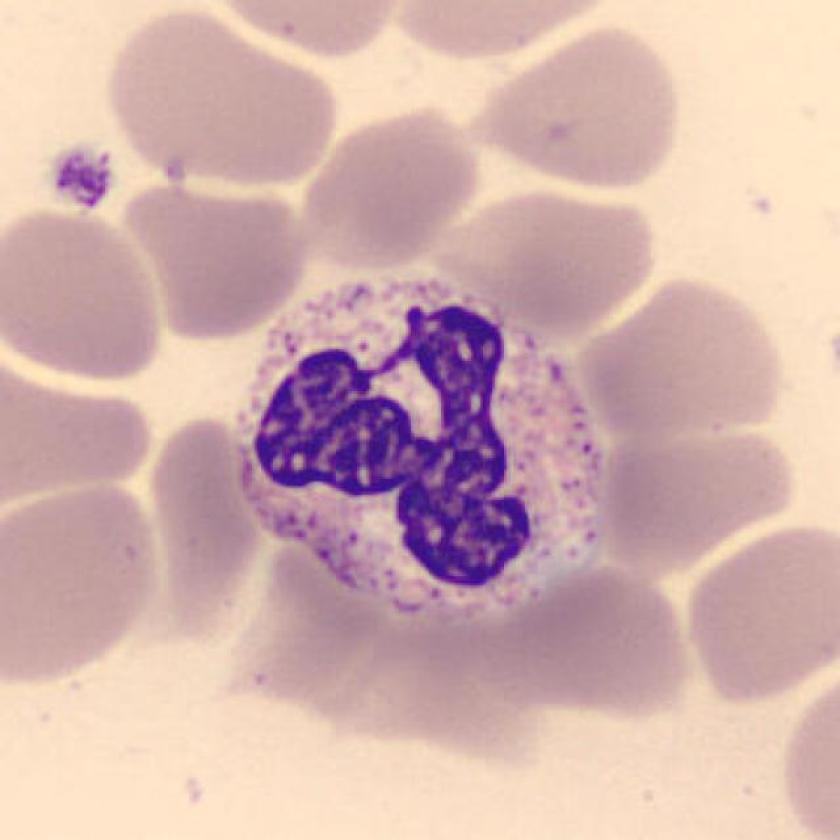neutrophil: (236, 280, 602, 625)
